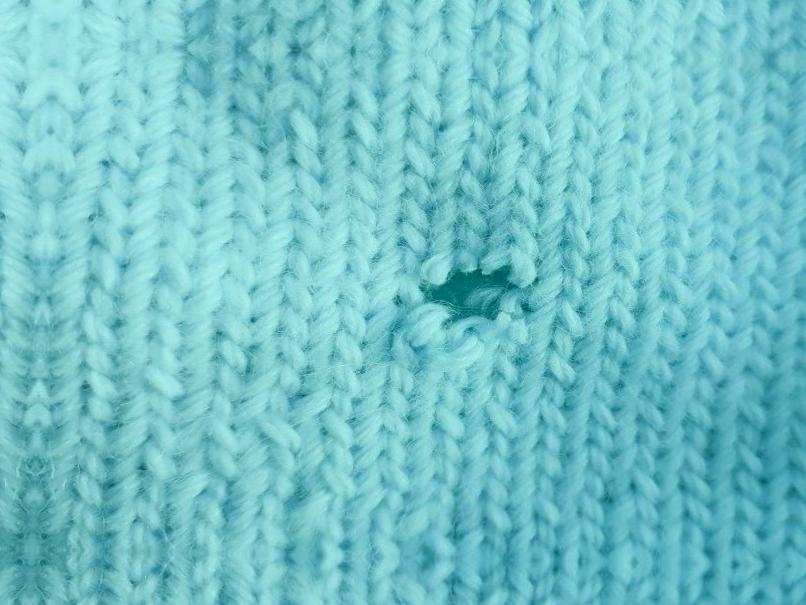hole: (418, 252, 538, 339)
